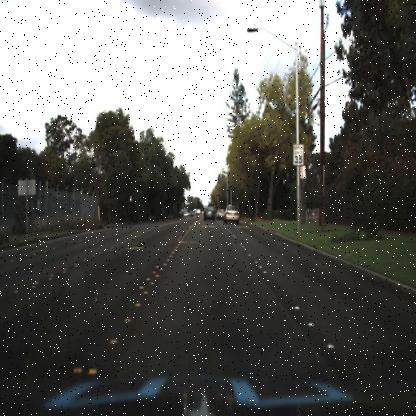car: (222, 204, 243, 227), (201, 201, 217, 224)
